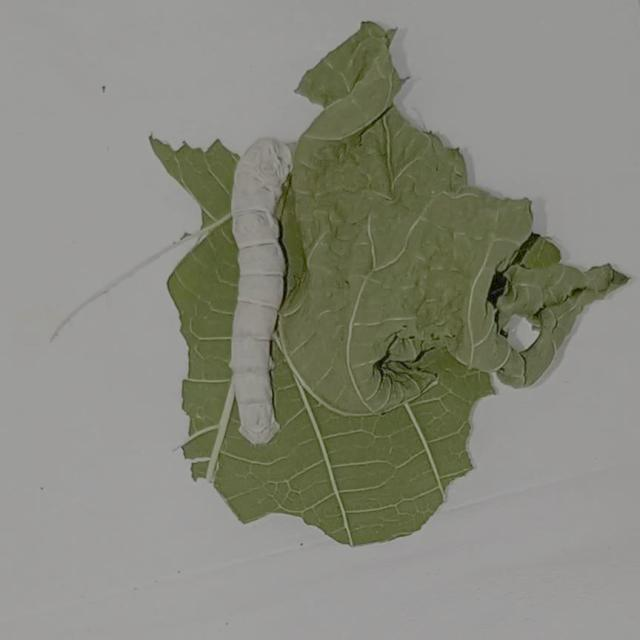Healthy: (187, 101, 333, 462)
